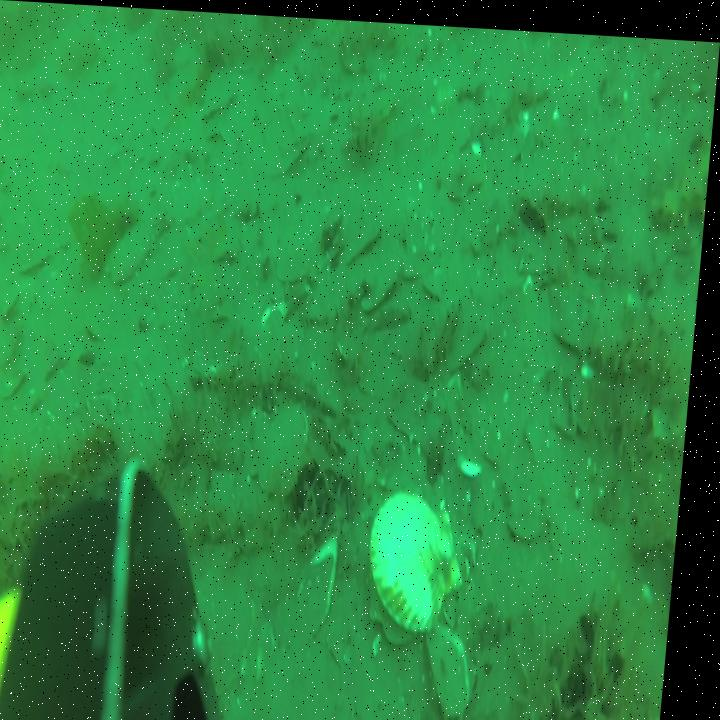holothurian: (650, 142, 712, 232)
scallop: (374, 483, 479, 641), (255, 397, 318, 495), (400, 182, 462, 255), (109, 221, 162, 288), (435, 140, 494, 200), (359, 248, 403, 304), (342, 211, 387, 264), (280, 237, 319, 282), (361, 80, 398, 126), (515, 497, 556, 538), (422, 263, 451, 296), (404, 247, 428, 279), (175, 39, 198, 69)
